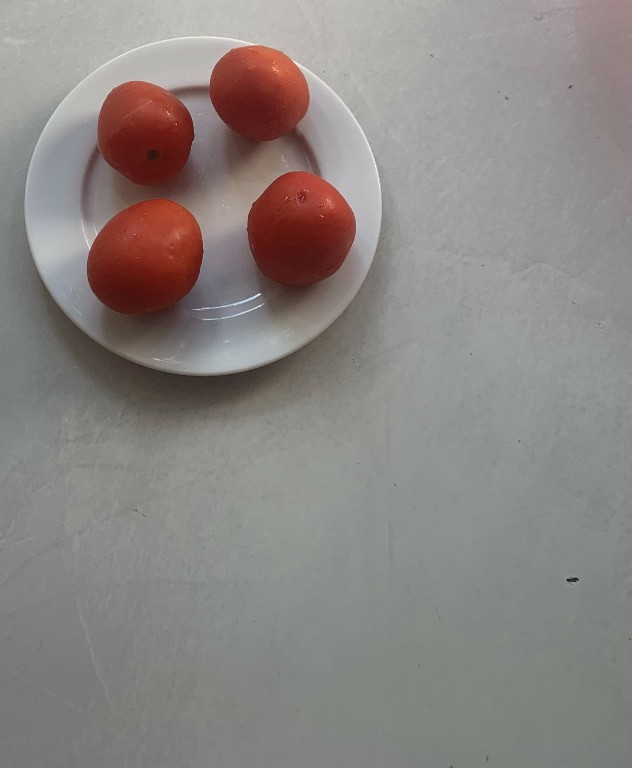OK: (79, 196, 203, 321), (241, 171, 356, 291), (91, 78, 195, 184), (209, 44, 310, 138)
